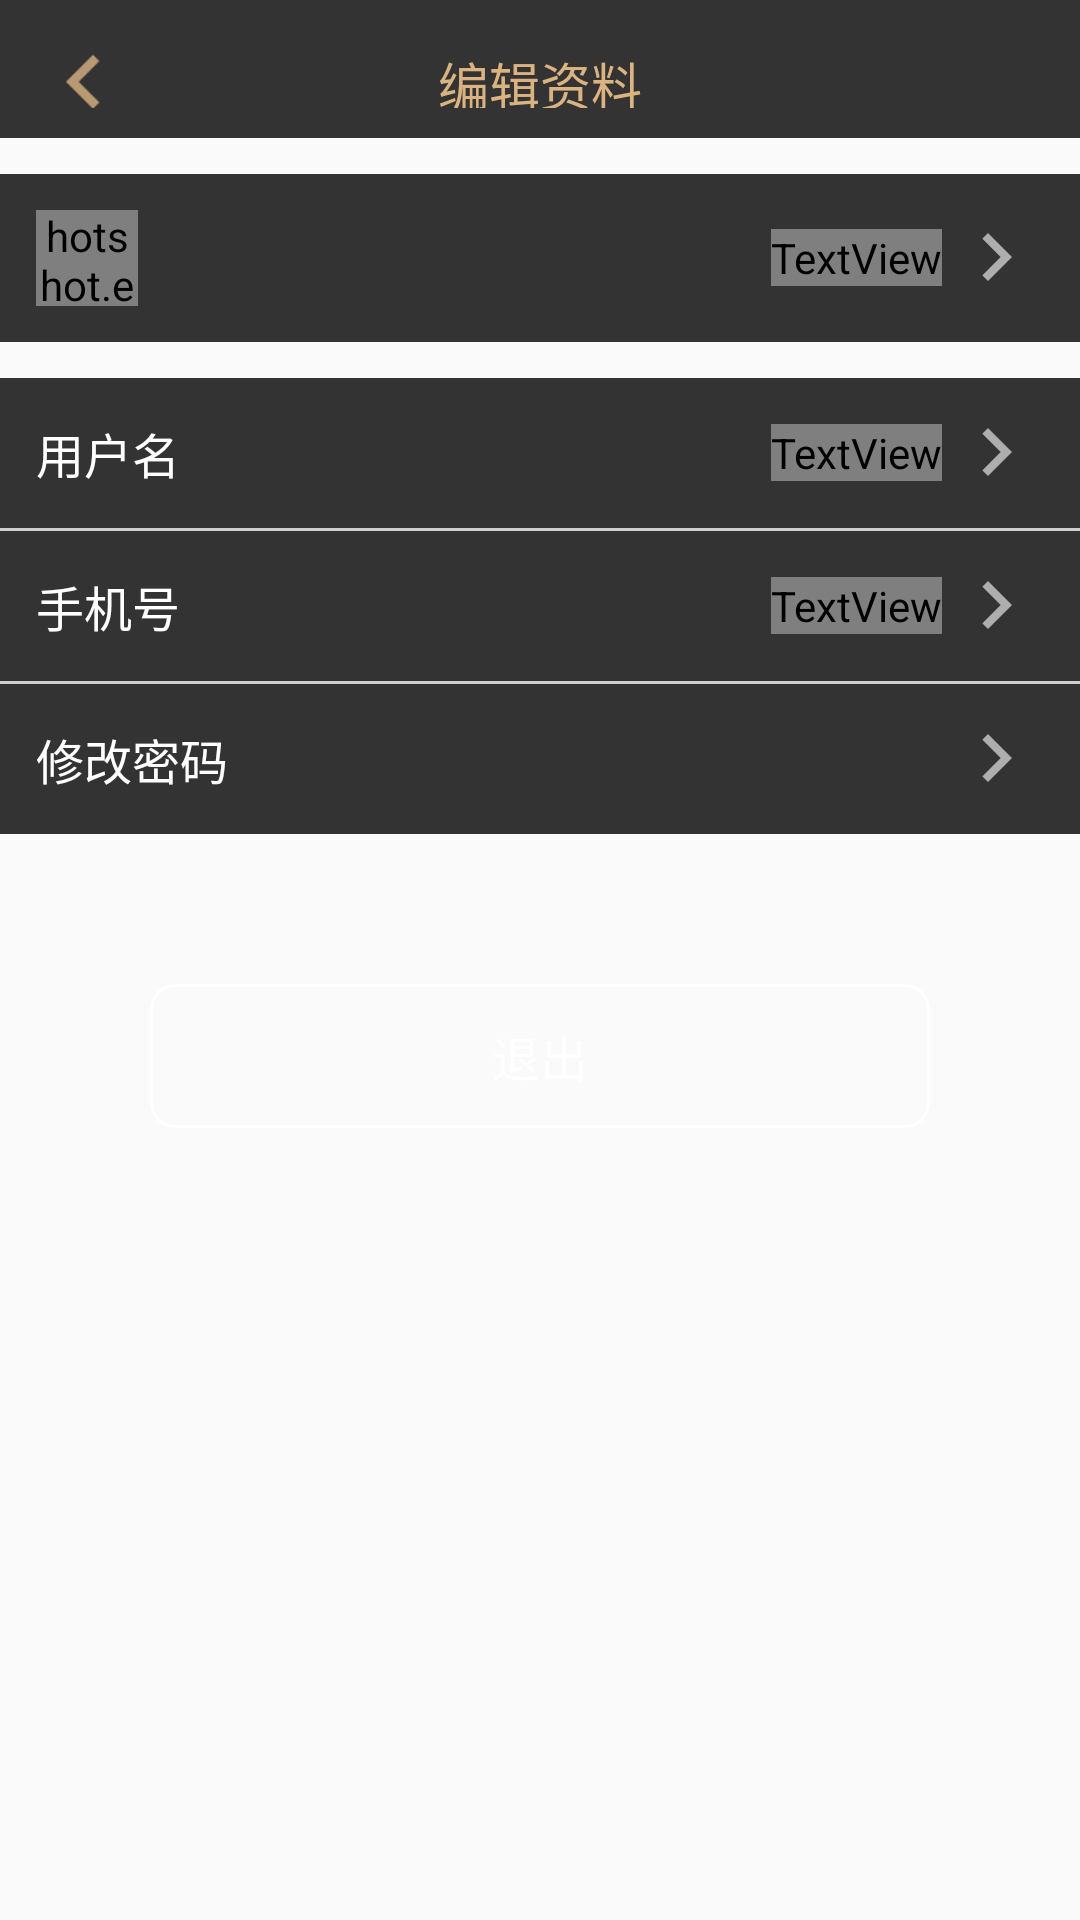

Where to tap for icons on this 1080 x 1920 app screen, as point (x, y):
back brown: point (83, 81)
